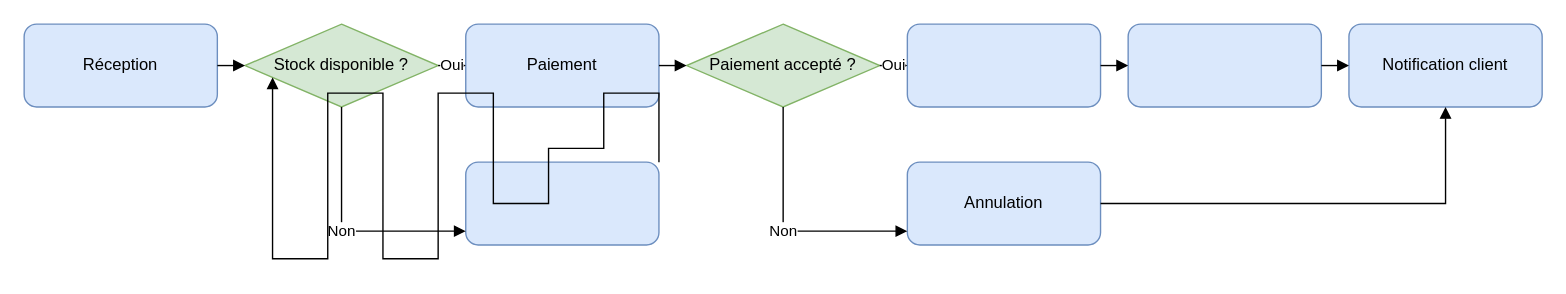
The diagram is 1566 pixels wide and 294 high, and some of its shapes have lost their labels. Each missing label, with the centre of its shape:
"Expédition" goes at pixel 1224 65.
"Préparation" goes at pixel 1003 65.
"Réapprovisionnement" goes at pixel 561 203.
